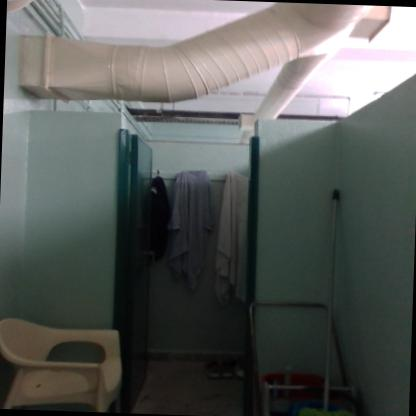open: (104, 98, 274, 384)
